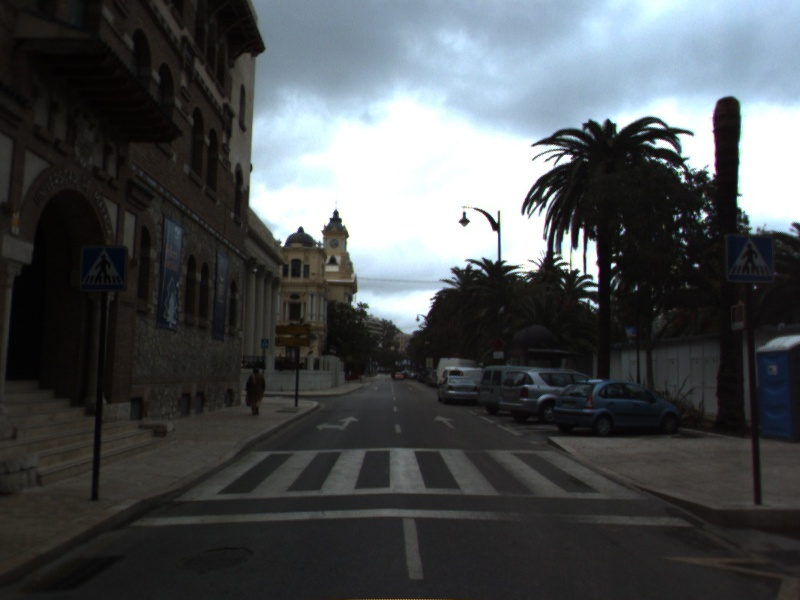STRAIGHT: (432, 413, 458, 431)
STRAIGHT_LEFT: (314, 414, 362, 433)
